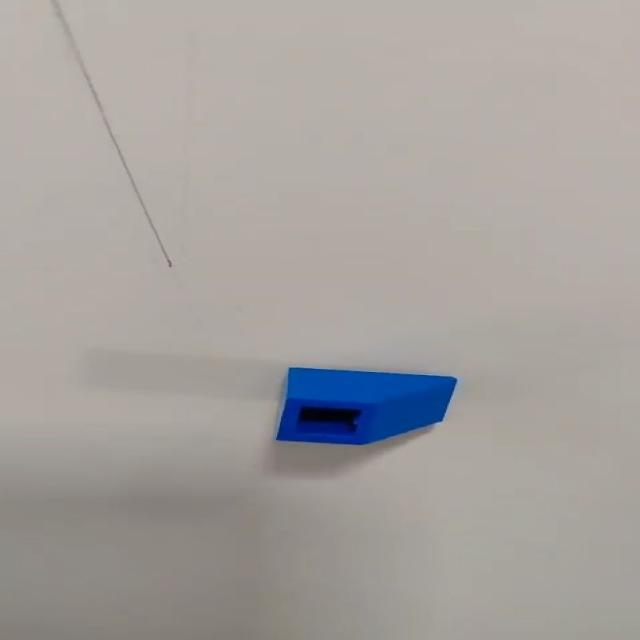X1x2x1: (272, 364, 458, 446)
